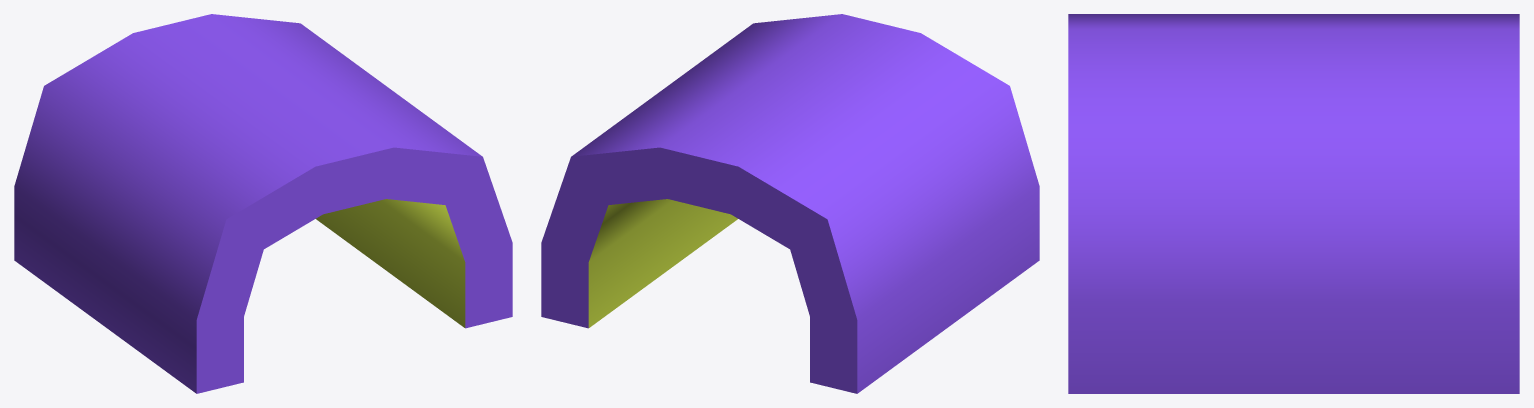
File: tunnel.fbx
The picture shows the model from 3 angles, left to right: view 1: azimuth 30°, elevation 25°; view 2: azimuth 150°, elevation 25°; view 3: azimuth 270°, elevation 25°; orthographic projection. The views are drawn at different scales.
Visible parts, largest first — view 1: tunnel; view 2: tunnel; view 3: tunnel.
Boxes of the visible parts, left/top/right/bottom form: tunnel: left=14, top=14, right=512, bottom=393; tunnel: left=541, top=14, right=1039, bottom=393; tunnel: left=1068, top=14, right=1519, bottom=393.
Size of the model in its own units: 10 by 6 by 10.
